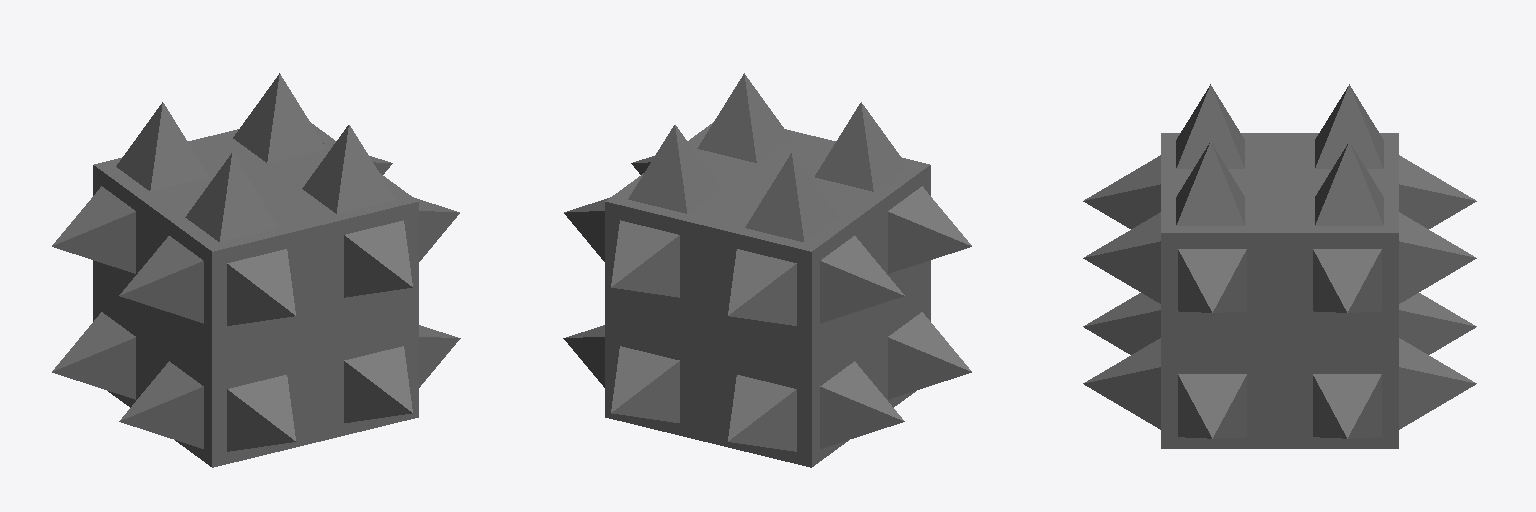
The model's file is BADCUBE.obj.
3 renders of one model, left to right at view 1: azimuth 30°, elevation 25°; view 2: azimuth 150°, elevation 25°; view 3: azimuth 270°, elevation 25°, orthographic.
Parts seen in each view (by area): view 1: BAD_CUBE; view 2: BAD_CUBE; view 3: BAD_CUBE.
Boxes of the visible parts, box(x1,y1,x2,y2) form: BAD_CUBE: box(52, 73, 460, 467); BAD_CUBE: box(563, 73, 971, 467); BAD_CUBE: box(1083, 84, 1476, 448).
Size of the model in its own units: 2.76 by 2.21 by 2.76.